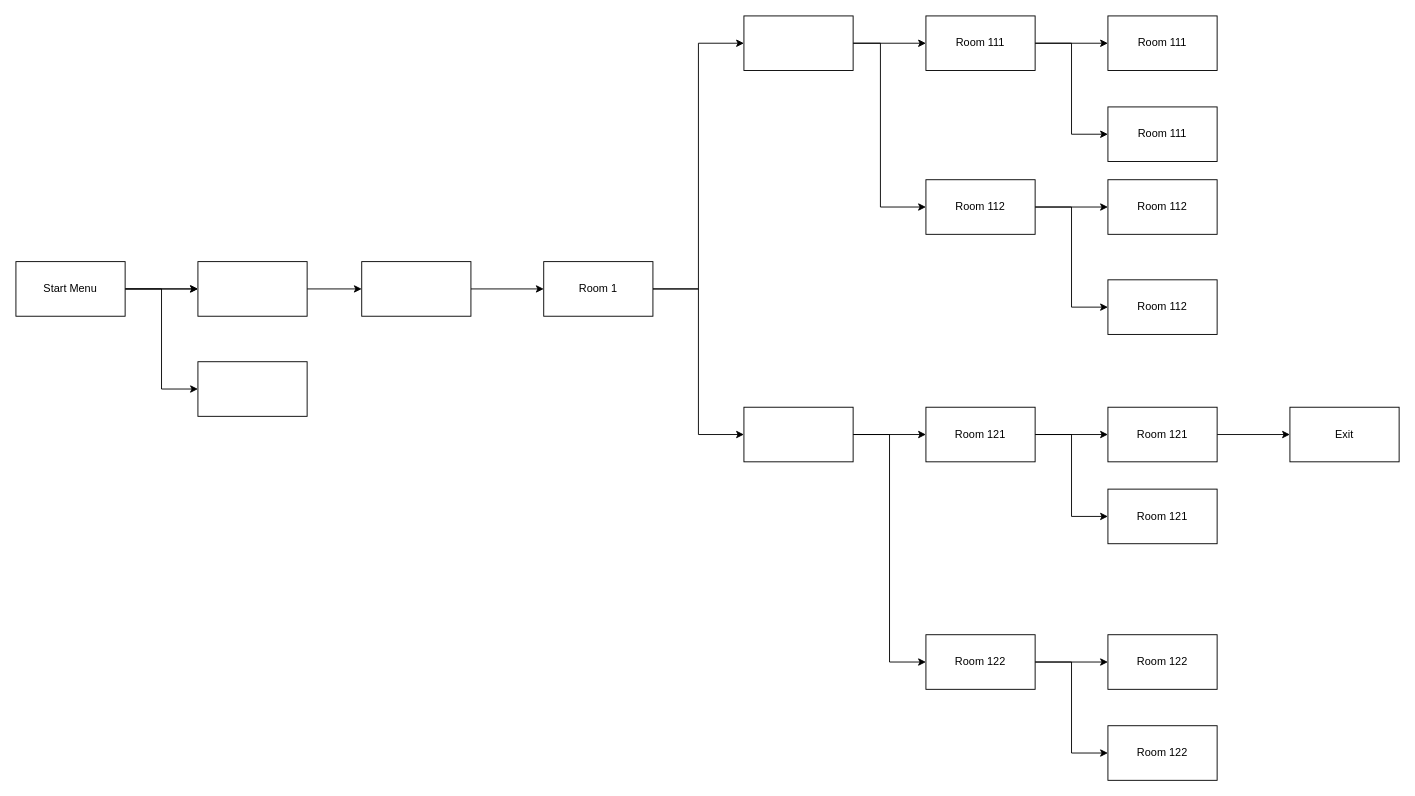
The diagram is 1415 pixels wide and 796 high, and some of its shapes have lost their labels. Each missing label, with the centre of its shape:
"Campaign" belongs at (416,288).
"Character Creation" belongs at (252,288).
"Guide Menu" belongs at (252,388).
"Room 11" belongs at (798,43).
"Room 12" belongs at (798,434).
